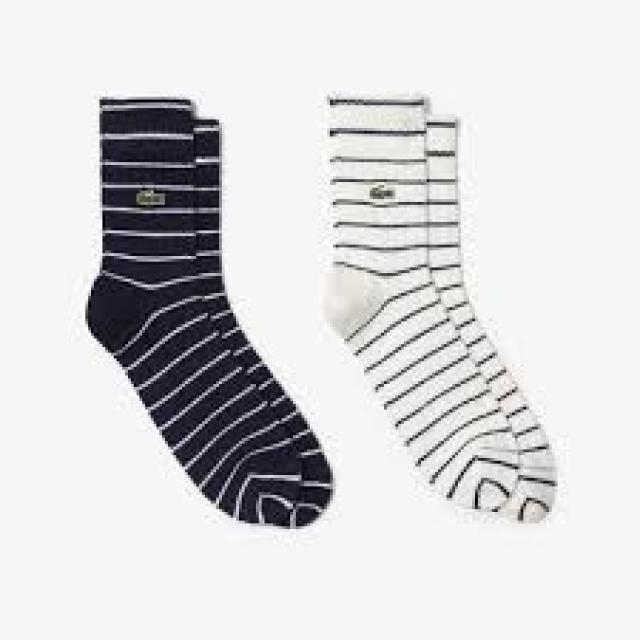sock: (82, 94, 333, 529), (318, 91, 558, 523)
